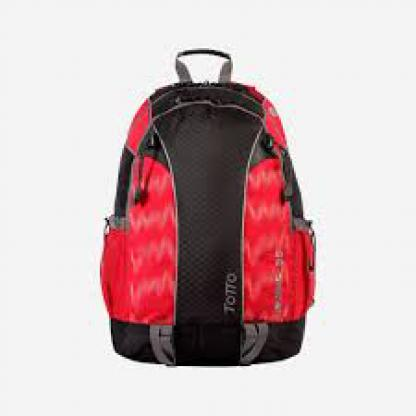morral: (78, 35, 333, 374)
